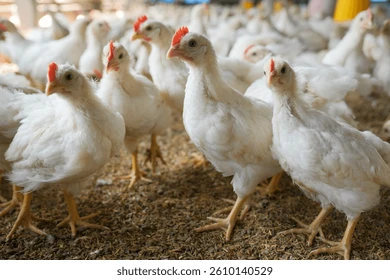Healthy: (162, 21, 287, 246), (256, 50, 390, 259), (2, 61, 125, 247), (94, 39, 166, 194)
